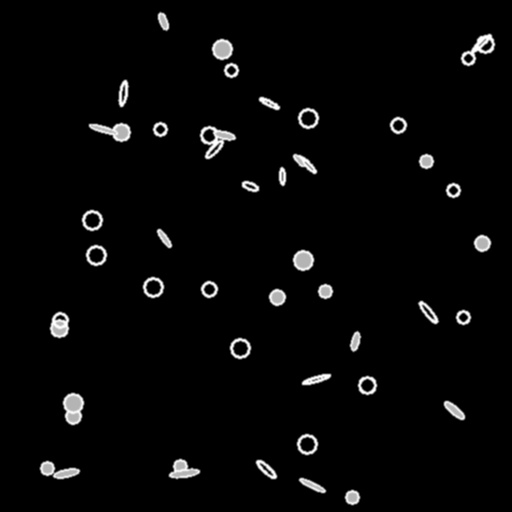pseudomonas: (417, 300, 439, 324), (255, 458, 277, 480), (443, 400, 465, 420), (470, 33, 492, 53), (299, 477, 325, 493), (297, 154, 317, 174), (204, 139, 224, 159), (89, 123, 117, 135), (302, 373, 330, 385), (156, 228, 172, 248), (169, 468, 199, 478), (259, 96, 279, 110), (213, 129, 235, 141), (53, 468, 79, 478), (118, 81, 128, 105), (241, 180, 259, 192), (157, 12, 169, 30), (292, 153, 306, 167), (350, 332, 360, 350), (279, 168, 285, 184)
synechocystis: (213, 40, 231, 58), (299, 109, 317, 127), (64, 394, 82, 412), (294, 251, 312, 269), (298, 435, 316, 453), (231, 339, 249, 357), (83, 211, 101, 229), (144, 278, 162, 296), (87, 246, 105, 264), (113, 124, 129, 140), (477, 36, 493, 52), (359, 377, 375, 393), (51, 320, 67, 336), (201, 127, 217, 143), (66, 409, 80, 423), (202, 282, 216, 296), (53, 313, 67, 327), (391, 118, 405, 132), (270, 290, 284, 304), (475, 236, 489, 250), (174, 460, 186, 472), (447, 184, 459, 196), (319, 285, 331, 297), (225, 64, 237, 76), (462, 52, 474, 64), (457, 311, 469, 323), (346, 491, 358, 503), (41, 462, 53, 474), (154, 123, 166, 135), (420, 155, 432, 167)
